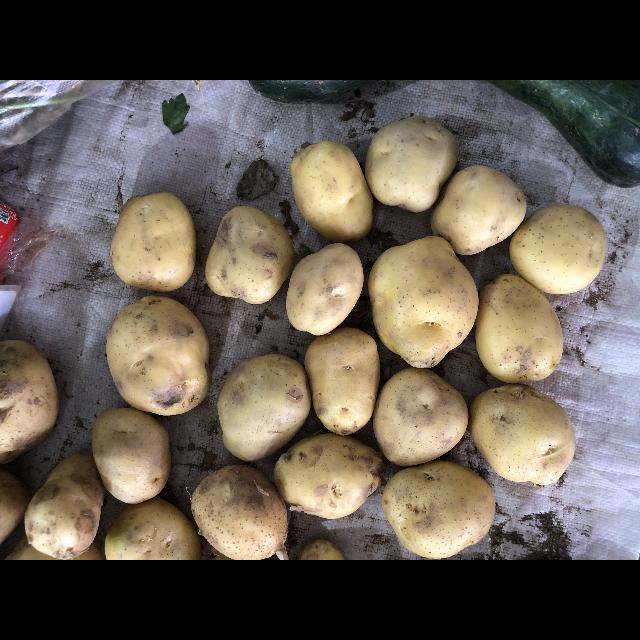Diseased-fungal potato: (373, 233, 475, 364), (104, 294, 210, 414), (380, 456, 496, 560), (485, 388, 595, 484), (187, 463, 291, 559), (217, 350, 307, 460), (476, 276, 566, 384), (271, 435, 383, 521), (20, 446, 104, 556), (285, 143, 377, 243), (380, 364, 472, 462), (368, 108, 456, 210), (304, 324, 381, 438), (205, 209, 292, 307), (434, 164, 526, 256), (510, 210, 606, 296), (90, 407, 172, 501), (286, 245, 364, 343), (0, 340, 62, 462), (104, 504, 192, 560)
Potato: (112, 192, 196, 288)
